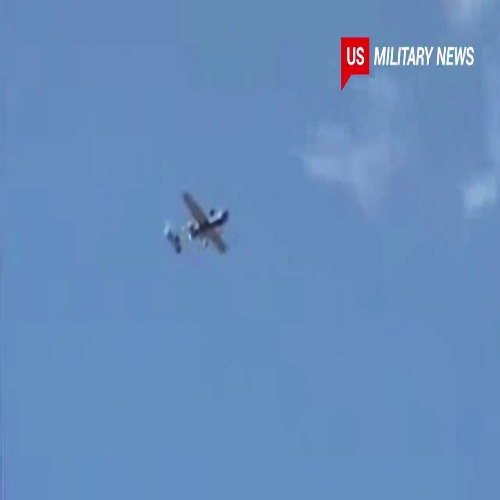uav179: (159, 190, 236, 258)
